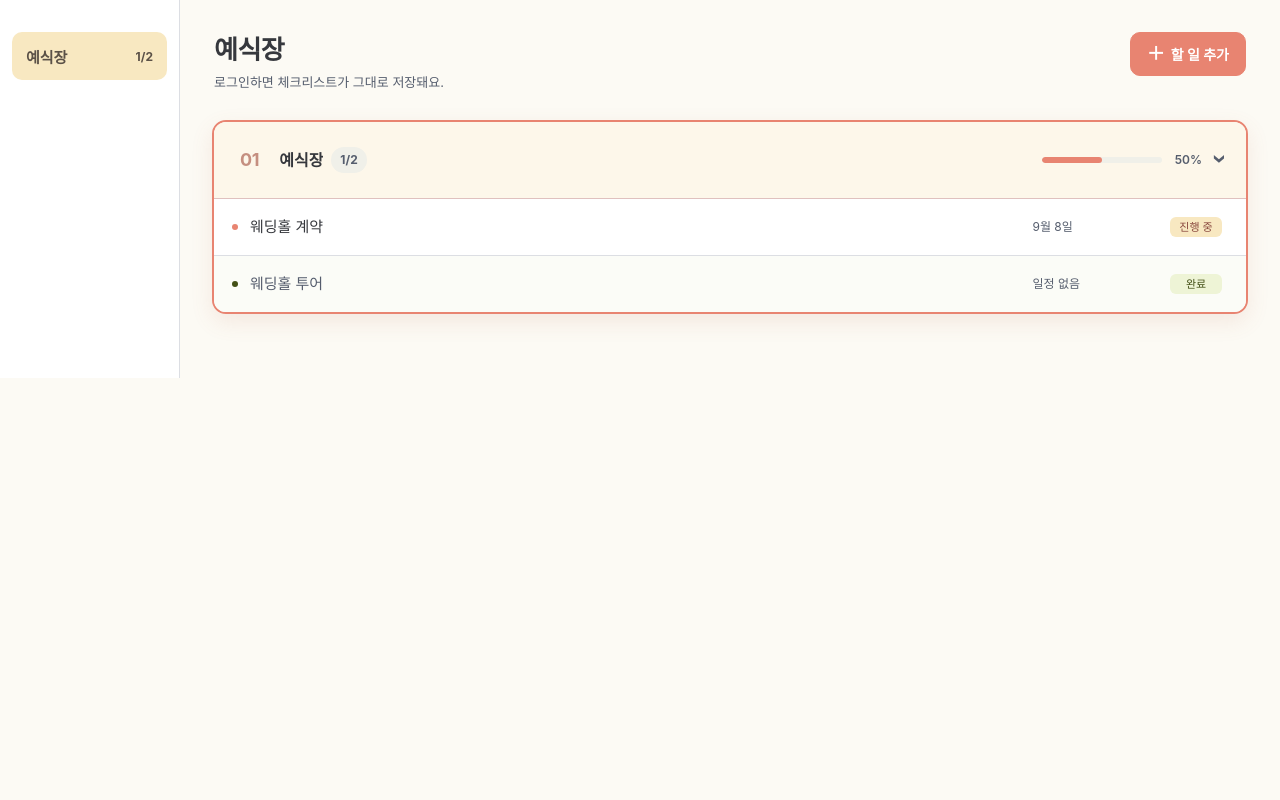
Test case: Checklist 웹 상세 패널 › 선택한 할 일의 API 기반 상세 정보와 전체 일정을 서버 순서로 표시한다
Click the button "웨딩홀 계약 9월 8일 진행 중": (286, 226) [214,199,1246,255]
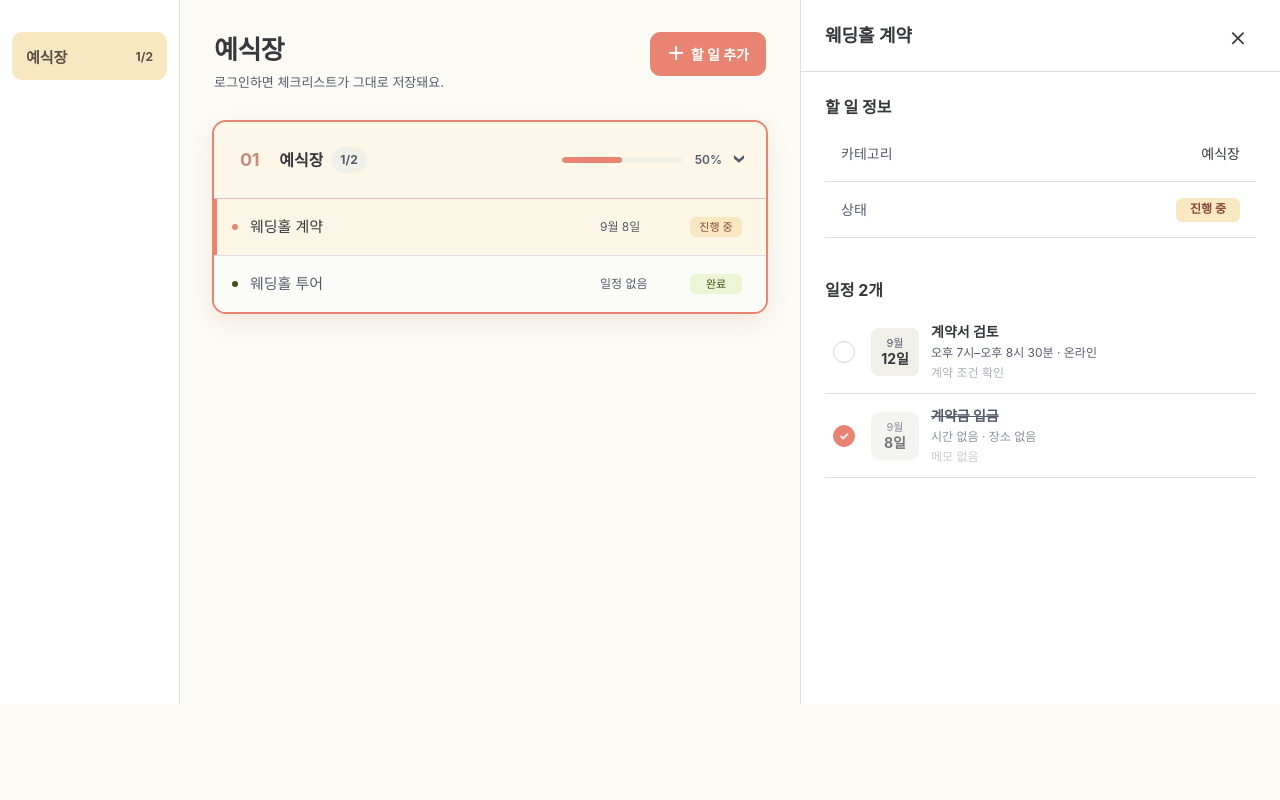
Now the text "예식장" next to "카테고리" is shown, box [1201,145,1240,162]
Now the text "진행 중" in the row of "상태" is shown, box [1190,202,1226,216]
Now the text "오후 7시–오후 8시 30분 · 온라인" is shown, box [931,345,1097,360]
